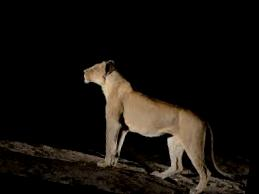lions: (59, 48, 259, 194)
